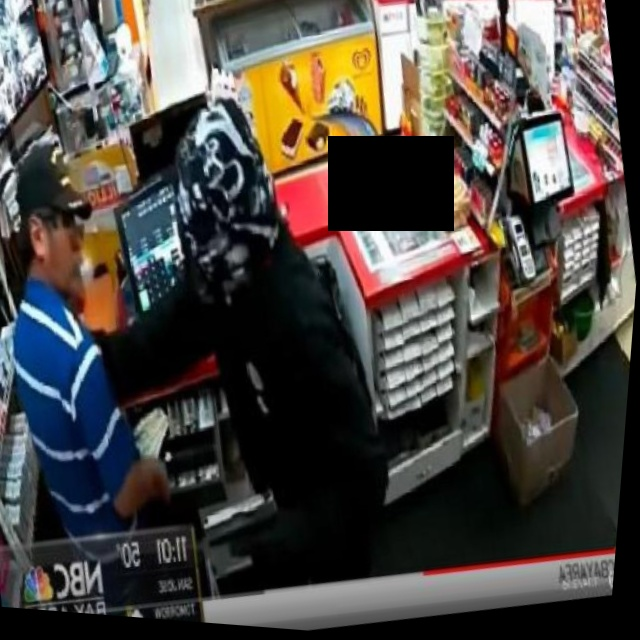gun: (192, 486, 304, 593)
